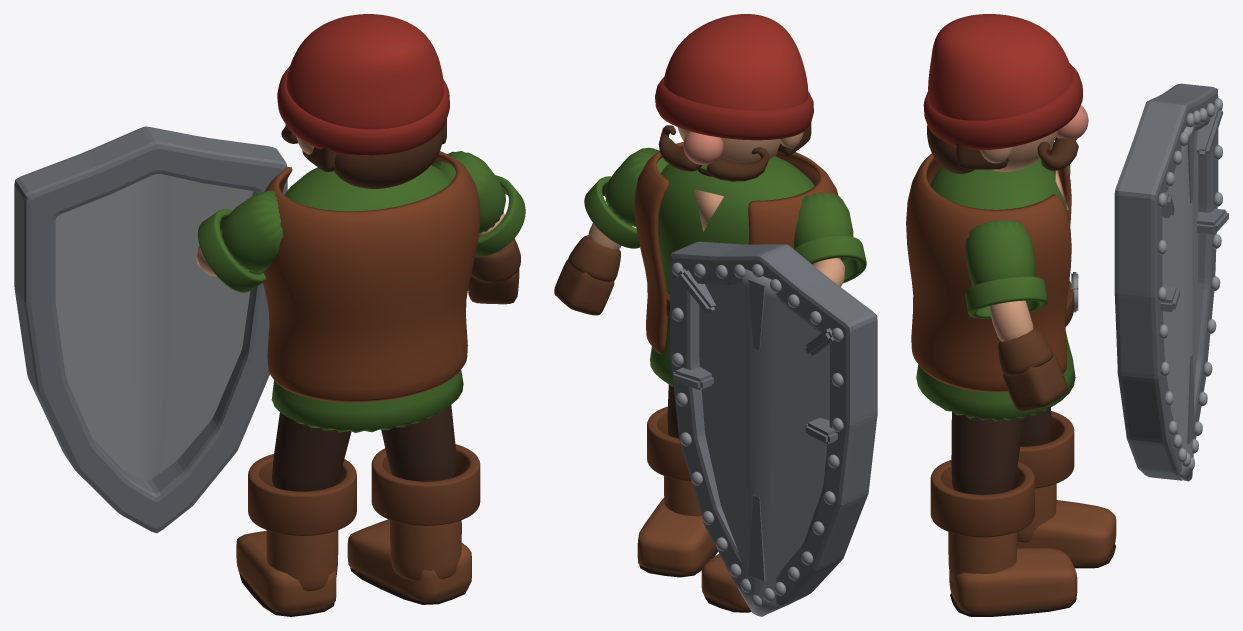
Rendered from rook_detail.glb.
The picture shows the model from 3 angles, left to right: view 1: azimuth 30°, elevation 25°; view 2: azimuth 150°, elevation 25°; view 3: azimuth 270°, elevation 25°; orthographic projection. The views are drawn at different scales.
Visible parts, largest first — view 1: Detail; view 2: Detail; view 3: Detail.
Boxes of the visible parts, left/top/right/bottom form: Detail: left=14, top=14, right=525, bottom=616; Detail: left=554, top=14, right=877, bottom=616; Detail: left=906, top=14, right=1228, bottom=616.
Size of the model in its own units: 0.7718 by 1.01 by 0.5345.
